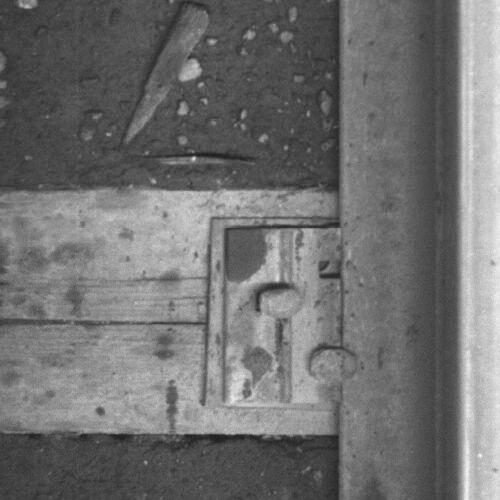do: (224, 226, 361, 404)
rail: (456, 1, 500, 500)
tie_wood: (1, 188, 338, 435)
wood_crack: (1, 314, 209, 334)
